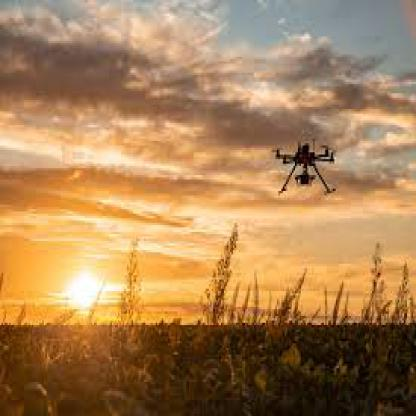UAS: (275, 138, 336, 196)
